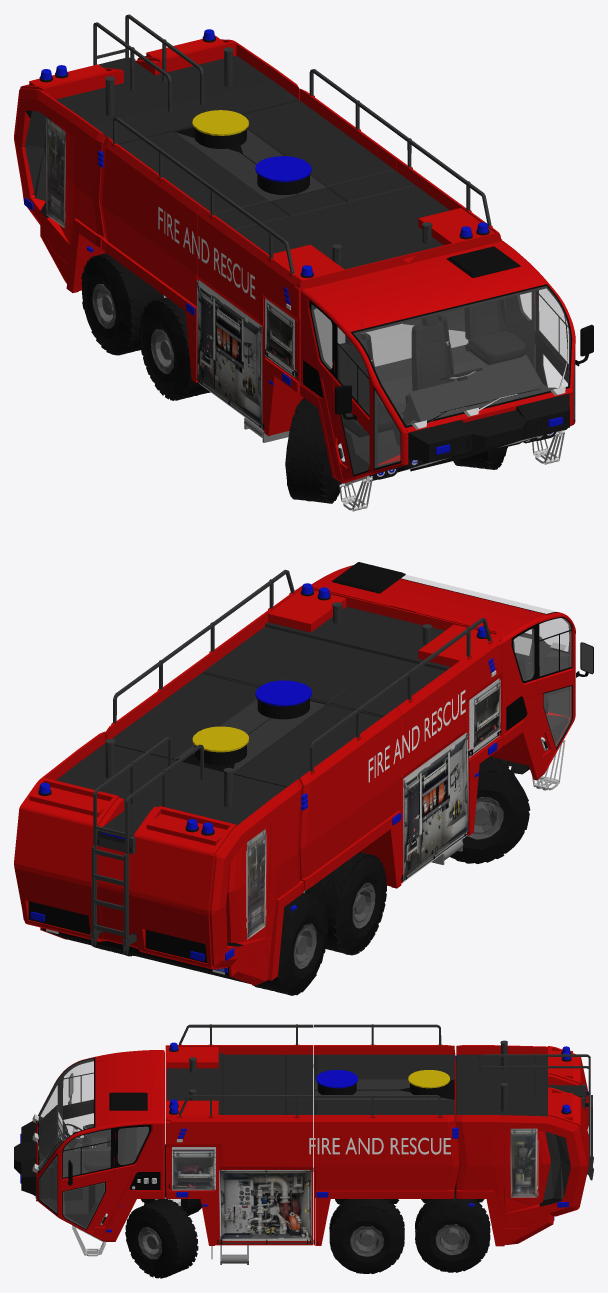
Rendered from Striker.glb.
3 renders of one model, top to bottom at view 1: azimuth 30°, elevation 25°; view 2: azimuth 150°, elevation 25°; view 3: azimuth 270°, elevation 25°, orthographic. The views are drawn at different scales.
Visible parts, largest first — view 1: Object_2302, Object_1784, Object_382, Object_1626, Object_1833, Object_857, Object_2052, RightLocker_1646_19, Object_1601, Object_2517, Object_2087, Object_312 (+28 smaller); view 2: Object_1833, Object_2302, Object_2052, Object_857, Object_1626, Object_382, RightLocker_1646_19, Object_1297, Object_2744, Object_1152, Object_497, Object_312 (+18 smaller); view 3: Object_857, Object_1833, Object_1626, Object_2302, Object_382, Object_2052, LeftLocker_1647_17, Object_912, Object_687, Object_1027, Object_2087, Object_1784 (+26 smaller).
Boxes of the visible parts, x1,y1,x2,y2 form: Object_2302: (56, 55, 395, 215); Object_1784: (354, 286, 569, 425); Object_382: (300, 241, 575, 483); Object_1626: (197, 159, 502, 436); Object_1833: (14, 35, 299, 292); Object_857: (100, 88, 398, 382); Object_2052: (216, 171, 449, 269); RightLocker_1646_19: (197, 280, 261, 425); Object_1601: (311, 286, 574, 474); Object_2517: (369, 393, 570, 476); Object_2087: (312, 289, 574, 473); Object_312: (312, 305, 399, 474); Object_1833: (14, 731, 303, 985); Object_2302: (56, 672, 383, 843); Object_2052: (203, 606, 450, 716); Object_857: (105, 659, 401, 890); Object_1626: (201, 585, 502, 883); Object_382: (312, 565, 575, 780); RightLocker_1646_19: (403, 733, 468, 878); Object_1297: (91, 632, 399, 946); Object_2744: (304, 852, 387, 955); Object_1152: (450, 756, 530, 863); Object_497: (28, 753, 249, 983); Object_312: (514, 618, 571, 747); Object_857: (314, 1044, 459, 1245); Object_1833: (456, 1045, 588, 1246); Object_1626: (165, 1044, 313, 1245); Object_2302: (314, 1054, 586, 1120); Object_382: (36, 1050, 164, 1241); Object_2052: (166, 1053, 313, 1114); LeftLocker_1647_17: (219, 1170, 311, 1240); Object_912: (329, 1199, 404, 1273); Object_687: (415, 1192, 490, 1272); Object_1027: (125, 1198, 198, 1278); Object_2087: (41, 1062, 148, 1226); Object_1784: (39, 1059, 92, 1170).
Bounding box in the file's own units: 24.46 × 24.15 × 65.14.
88 materials, 7 textured.
